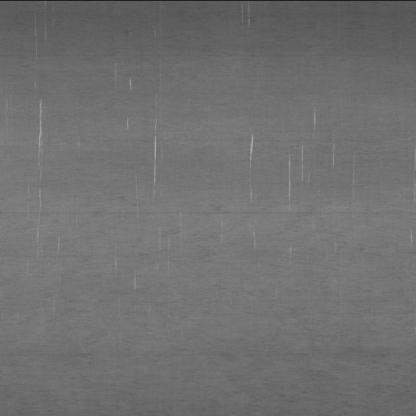waist_folding: (33, 73, 353, 312)
